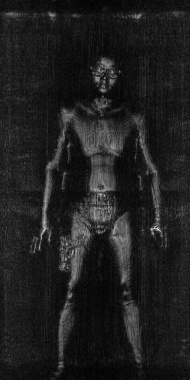gun: (54, 232, 91, 274)
